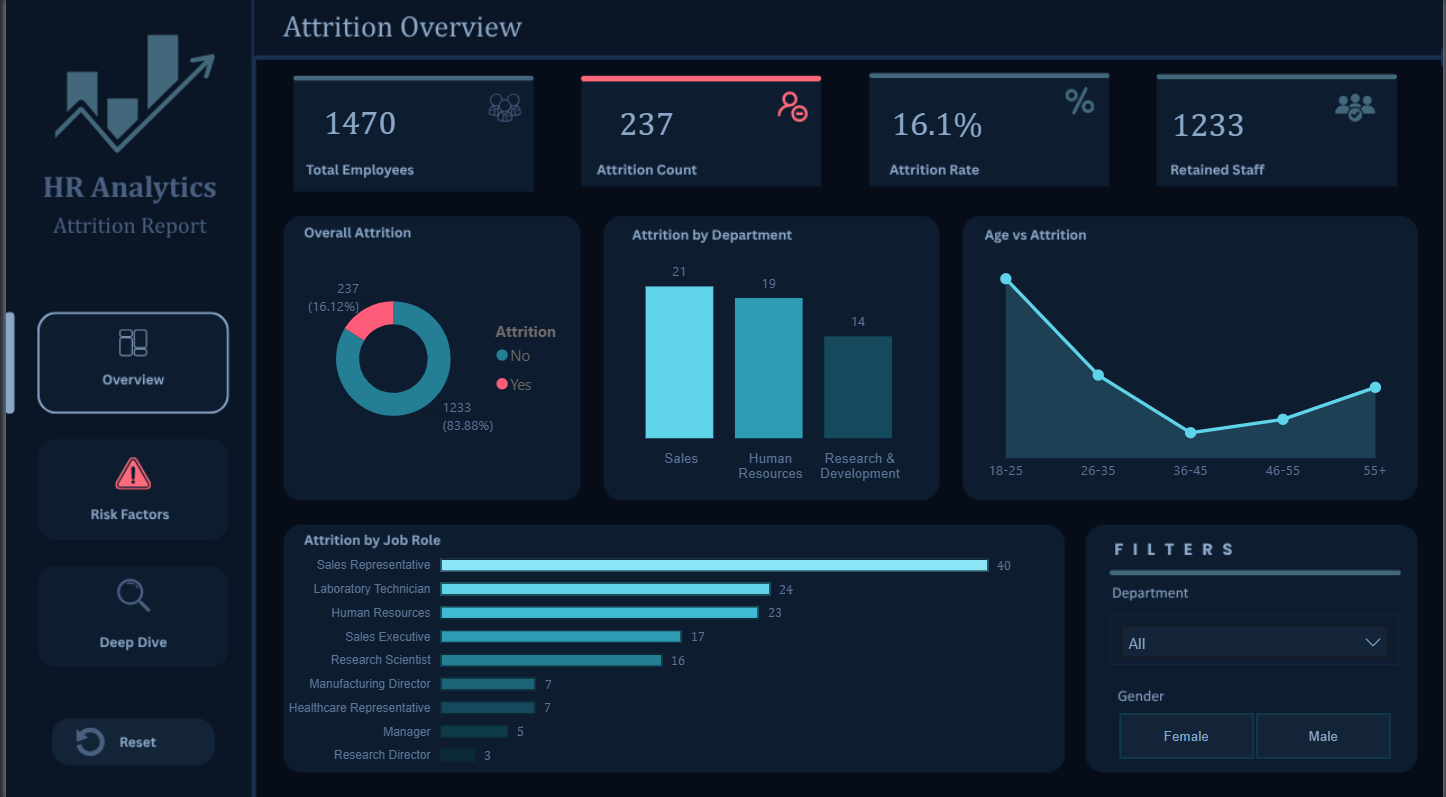

The dashboard page shown, as its layout file describes it:
{"tool":"powerbi","page":{"name":"Overview","canvas":[1280,720],"ordinal":0},"visuals":[{"type":"cardVisual","fields":{"Data":["CountNonNull(hr_attrition_clean.Attrition)"]},"box":[511.7,81,117.8,62.6],"z":0},{"type":"cardVisual","fields":{"Data":["hr_attrition_clean.Attrition Rate %"]},"box":[754.6,78.5,149.7,68.7],"z":1000},{"type":"cardVisual","fields":{"Data":["CountNonNull(hr_attrition_clean.Attrition)"]},"box":[1007.4,85.9,127.6,57.7],"z":2000},{"type":"donutChart","title":"Overall Attrition","fields":{"Category":["hr_attrition_clean.Attrition"],"Y":["Count(hr_attrition_clean.EmployeeNumber)"]},"box":[249.1,197.5,262.6,254],"z":3000},{"type":"clusteredColumnChart","fields":{"Category":["hr_attrition_clean.Department"],"Y":["hr_attrition_clean.Attrition Rate"]},"box":[521,217.1,308.4,224.9],"z":4000},{"type":"lineChart","fields":{"Y":["hr_attrition_clean.Attrition Rate"],"Category":["hr_attrition_clean.Age Group"]},"box":[852.8,217.2,404.9,224.5],"z":5000},{"type":"clusteredBarChart","title":"Attrition Rate by Job Role","fields":{"Category":["hr_attrition_clean.JobRole"],"Y":["hr_attrition_clean.Attrition Rate"]},"box":[238,481,663.8,216],"z":6000},{"type":"cardVisual","fields":{"Data":["hr_attrition_clean.Total Employees"]},"box":[249.1,76.1,132.5,72.4],"z":7000},{"type":"slicer","fields":{"Values":["hr_attrition_clean.Department"]},"box":[982.8,550.9,257.7,45.4],"z":8000},{"type":"slicer","fields":{"Values":["hr_attrition_clean.Gender"]},"box":[965.6,631.9,292,55.2],"z":9000},{"type":"actionButton","box":[38,397.5,150.9,78.5],"z":10000},{"type":"actionButton","box":[38,510.4,150.9,78.5],"z":11000},{"type":"actionButton","box":[50.9,646.7,127.9,39.7],"z":12000}]}

Visuals, with their boxes in screenshot pixels (x1, y1, x2, y2), scaled from the page's 1280x720 canvas onto the 1446x797 screenshot:
cardVisual - CountNonNull(hr_attrition_clean.Attrition): box=[578, 90, 711, 159]
cardVisual - hr_attrition_clean.Attrition Rate %: box=[852, 87, 1022, 163]
cardVisual - CountNonNull(hr_attrition_clean.Attrition): box=[1138, 95, 1282, 159]
"Overall Attrition" donutChart: box=[281, 219, 578, 500]
clusteredColumnChart - hr_attrition_clean.Department x hr_attrition_clean.Attrition Rate: box=[589, 240, 937, 489]
lineChart - hr_attrition_clean.Attrition Rate x hr_attrition_clean.Age Group: box=[963, 240, 1421, 489]
"Attrition Rate by Job Role" clusteredBarChart: box=[269, 532, 1019, 772]
cardVisual - hr_attrition_clean.Total Employees: box=[281, 84, 431, 164]
slicer - hr_attrition_clean.Department: box=[1110, 610, 1401, 660]
slicer - hr_attrition_clean.Gender: box=[1091, 699, 1421, 761]
actionButton: box=[43, 440, 213, 527]
actionButton: box=[43, 565, 213, 652]
actionButton: box=[58, 716, 202, 760]
